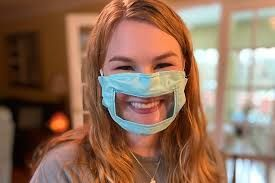with-mask: (92, 23, 207, 139)
